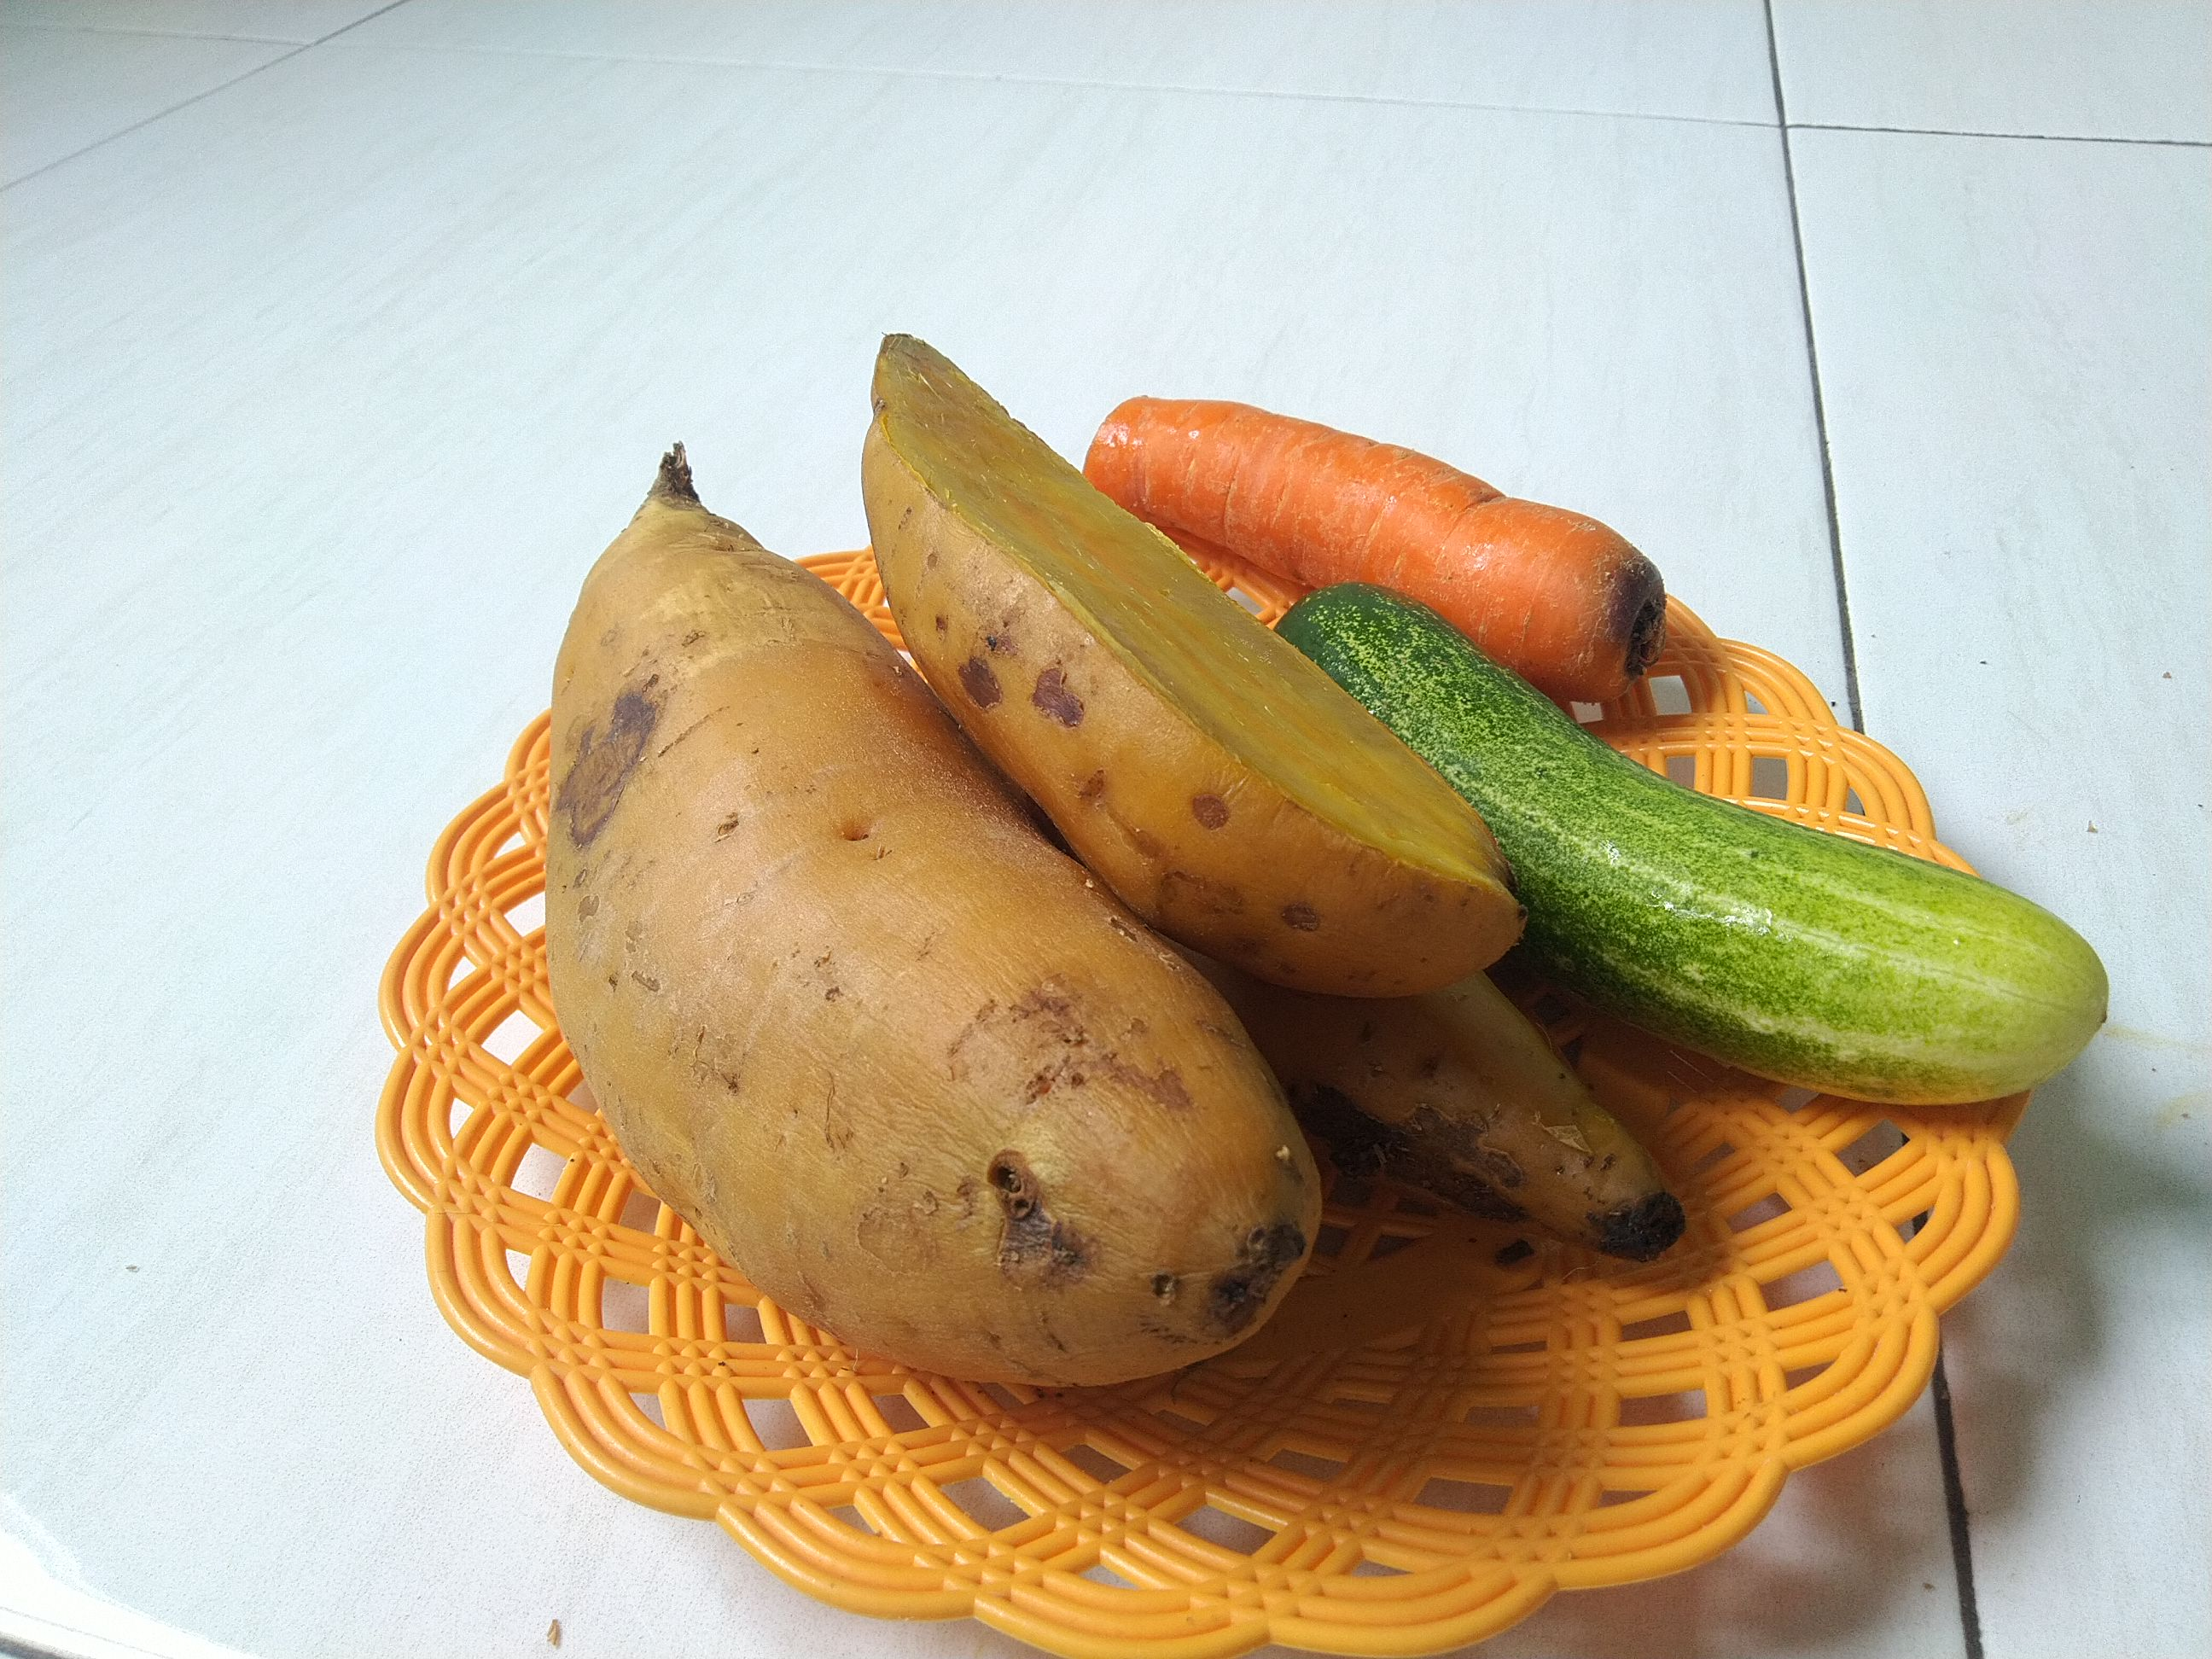ubi cilembu: (540, 457, 1320, 1364), (857, 321, 1524, 995)
